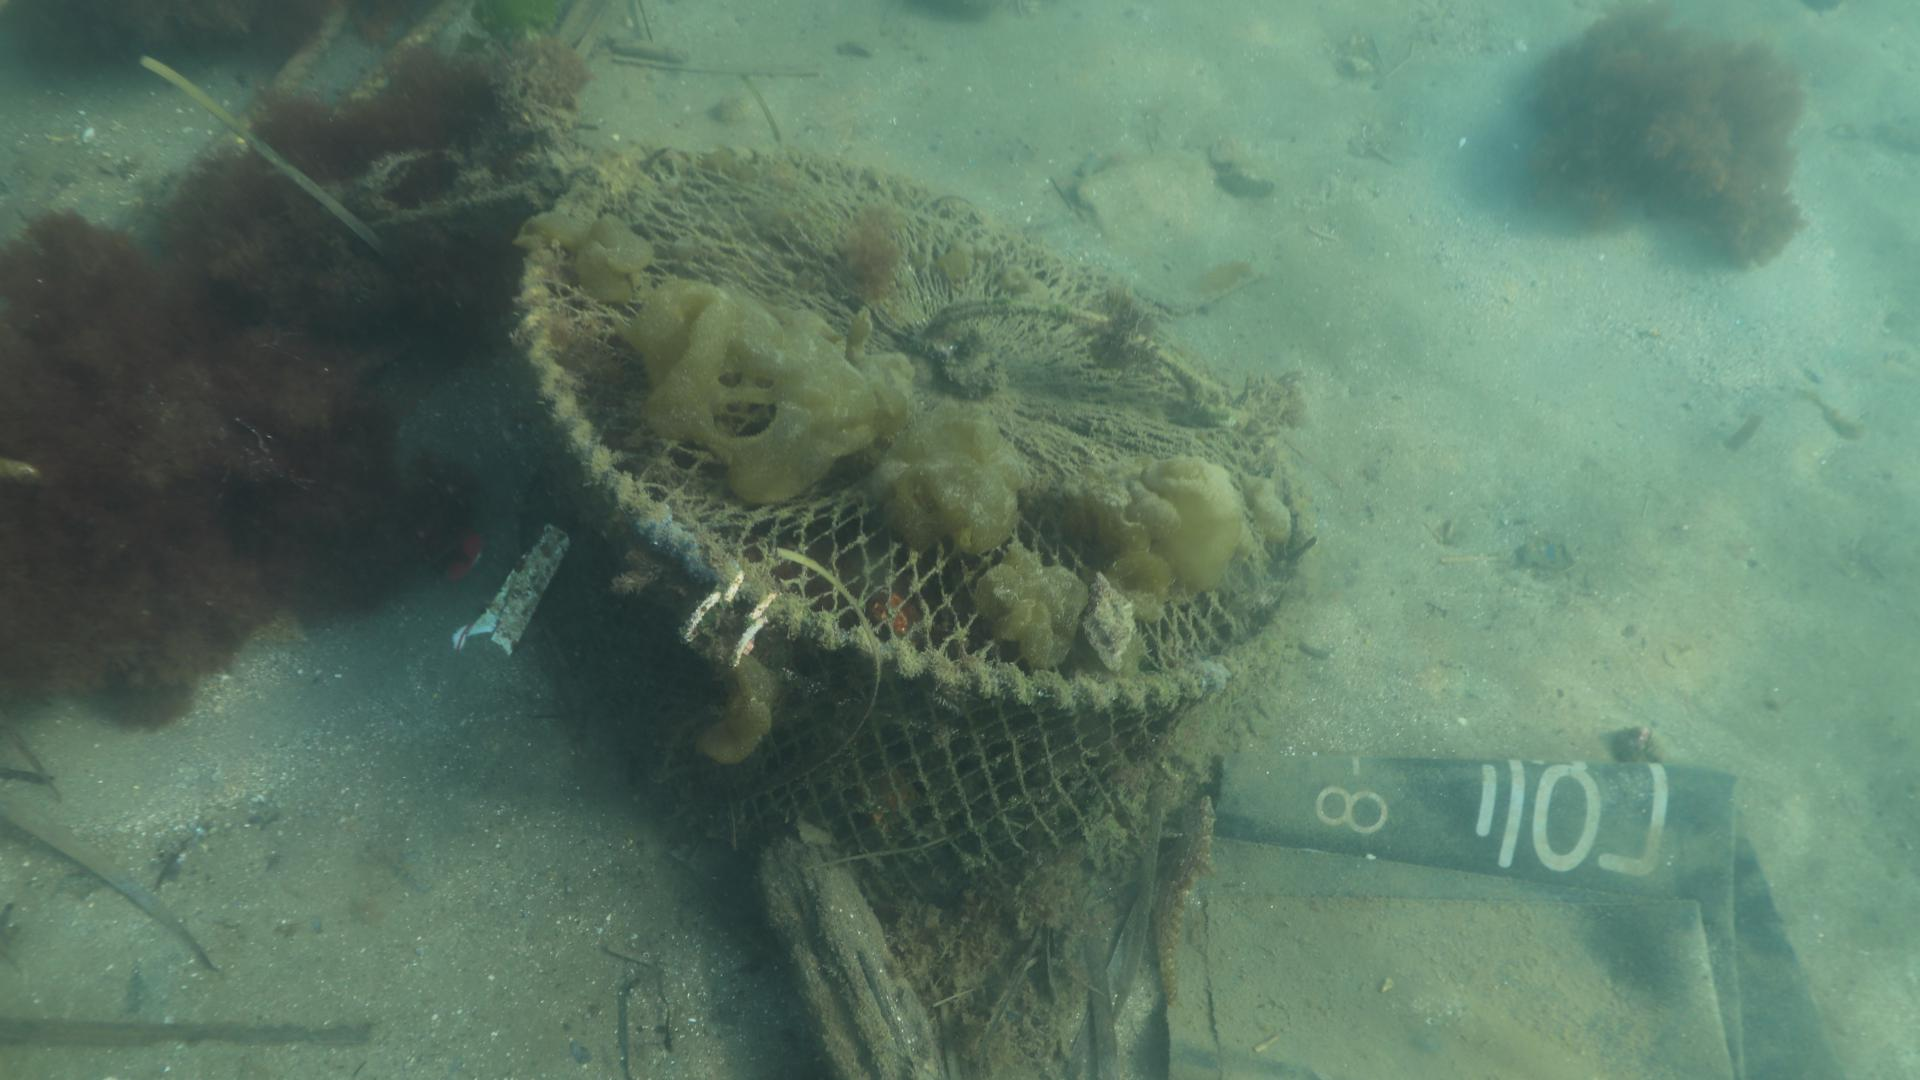circular fish trap: (522, 145, 1323, 906)
